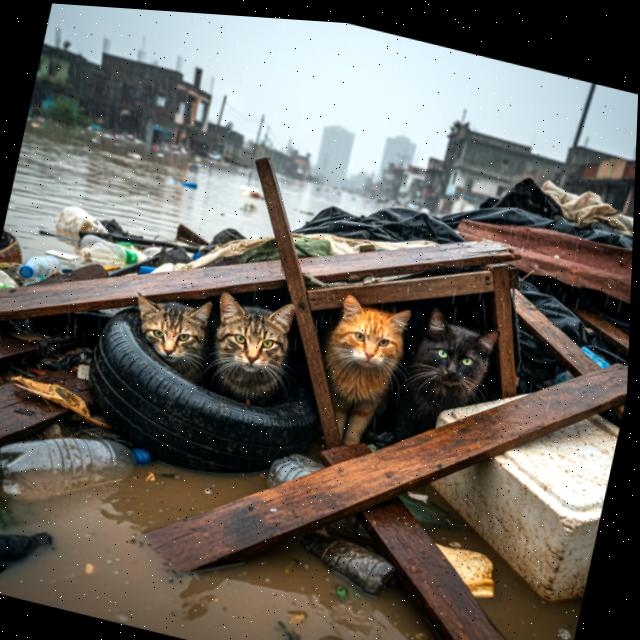cat: (298, 281, 421, 471), (392, 296, 505, 455), (189, 283, 310, 416), (103, 280, 223, 387)
